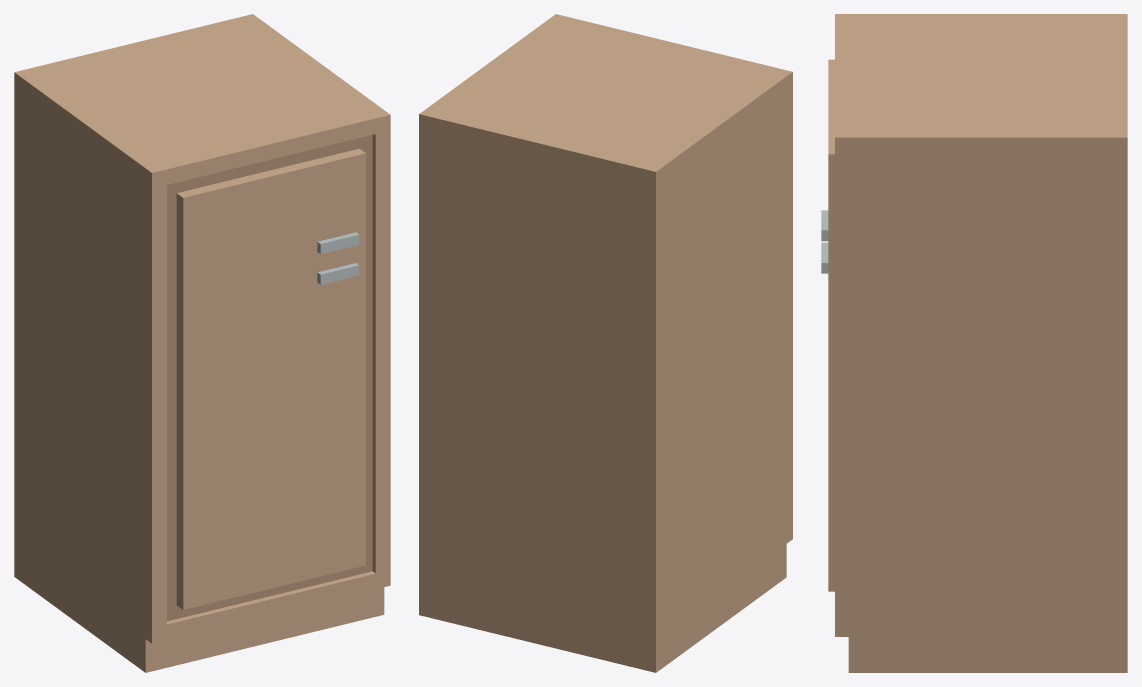
The model's file is kitchenFridgeBuiltIn.glb.
3 renders of one model, left to right at view 1: azimuth 30°, elevation 25°; view 2: azimuth 150°, elevation 25°; view 3: azimuth 270°, elevation 25°, orthographic. The views are drawn at different scales.
Visible parts, largest first — view 1: kitchenFridgeBuiltIn; view 2: kitchenFridgeBuiltIn; view 3: kitchenFridgeBuiltIn.
Boxes of the visible parts, bbox=[...] form: kitchenFridgeBuiltIn: bbox=[14, 14, 390, 672]; kitchenFridgeBuiltIn: bbox=[419, 14, 792, 672]; kitchenFridgeBuiltIn: bbox=[821, 14, 1127, 672].
Size of the model in its own units: 0.43 by 0.8687 by 0.45.
